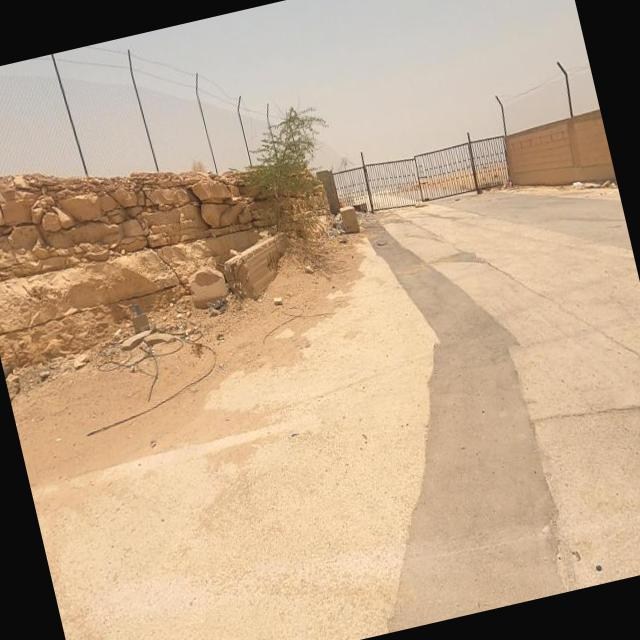debris: (23, 234, 292, 484), (540, 148, 606, 226)
